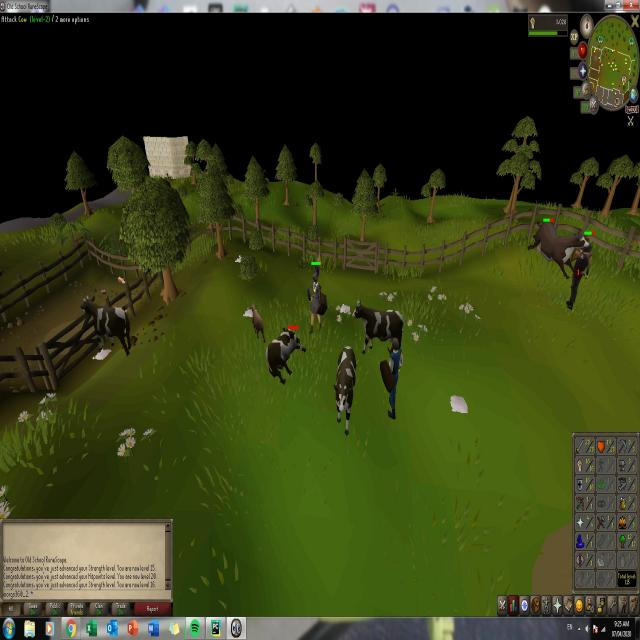cow: (527, 218, 588, 280), (79, 294, 132, 354), (266, 326, 308, 386), (330, 344, 357, 437), (352, 296, 404, 343)
